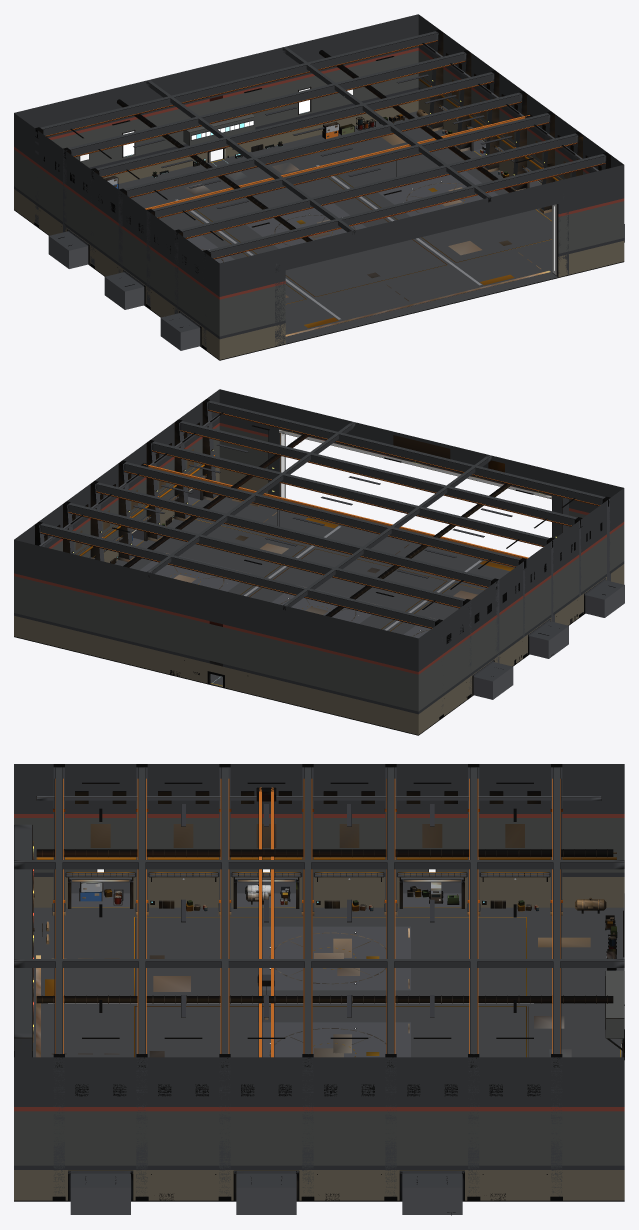
The model's file is Hangar.glb.
3 renders of one model, top to bottom at view 1: azimuth 30°, elevation 25°; view 2: azimuth 150°, elevation 25°; view 3: azimuth 270°, elevation 25°, orthographic. The views are drawn at different scales.
Parts seen in each view (by area): view 1: Hangar; view 2: Hangar; view 3: Hangar.
Part boxes in pixels (x1,y1,x2,y2): Hangar: [14, 14, 624, 360]; Hangar: [14, 389, 624, 735]; Hangar: [14, 764, 624, 1215].
Size of the model in its own units: 203 by 42.3 by 162.
